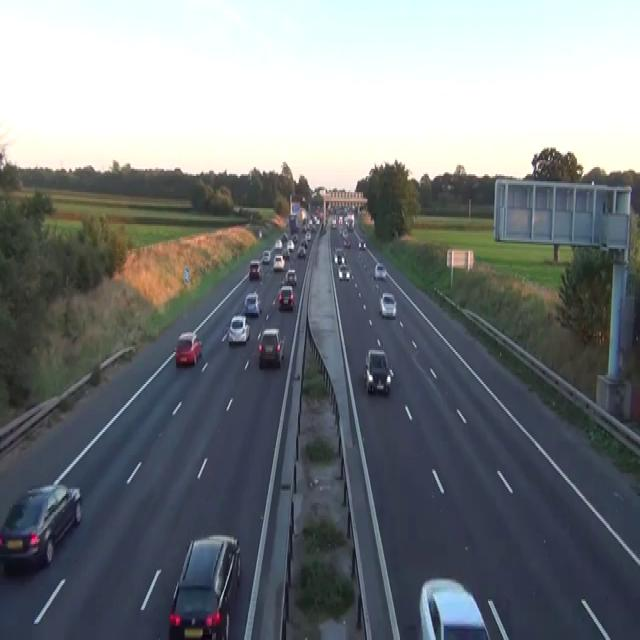Car: (168, 534, 241, 638), (0, 482, 82, 572), (418, 576, 490, 638), (363, 348, 393, 394), (257, 327, 284, 368), (175, 331, 202, 366), (227, 315, 250, 345), (379, 292, 397, 318), (277, 285, 294, 311), (244, 292, 260, 316), (248, 260, 261, 279), (373, 261, 386, 279), (284, 268, 297, 286), (338, 263, 351, 281), (333, 247, 345, 265), (273, 252, 284, 270), (344, 213, 354, 231), (261, 249, 270, 263), (297, 245, 306, 258), (358, 238, 366, 249), (274, 238, 282, 249), (232, 204, 241, 213), (287, 240, 294, 251), (282, 247, 289, 258), (343, 237, 350, 247), (291, 233, 298, 243), (305, 231, 311, 242), (338, 213, 343, 226), (446, 182, 454, 190), (340, 228, 348, 236), (281, 231, 288, 240), (331, 218, 336, 228), (321, 224, 326, 233), (258, 228, 262, 238)
Truck: (289, 195, 301, 233)
